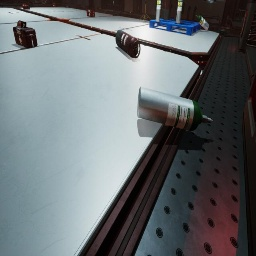0: (137, 86, 213, 131), (196, 15, 209, 30), (176, 0, 183, 24), (156, 0, 161, 22), (176, 0, 178, 21)
FireExtinguisher ]: (20, 4, 30, 10), (17, 20, 24, 26)
FirstAidBox ,: (13, 21, 38, 48), (86, 7, 95, 17), (53, 3, 57, 7)
NitrogenTank ,: (116, 30, 140, 58), (164, 0, 171, 20), (161, 0, 166, 19), (174, 0, 178, 21), (169, 0, 172, 19)
